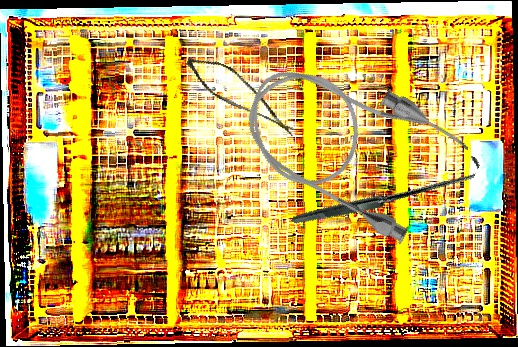Cannula: (225, 34, 476, 253)
Hook Surgical: (291, 97, 482, 285)
Micro Scissor: (176, 50, 308, 137)
